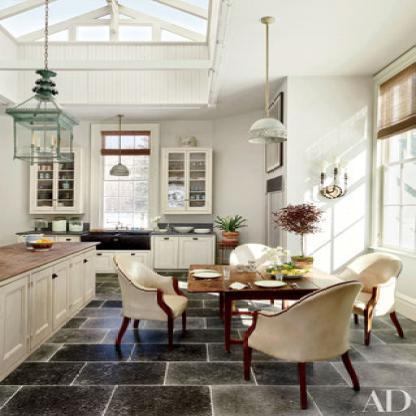chair: (238, 282, 367, 406), (103, 252, 191, 349), (340, 249, 408, 344), (232, 239, 286, 311)
light: (3, 3, 80, 174), (233, 9, 302, 150), (102, 110, 132, 188)
table: (182, 256, 343, 365)
